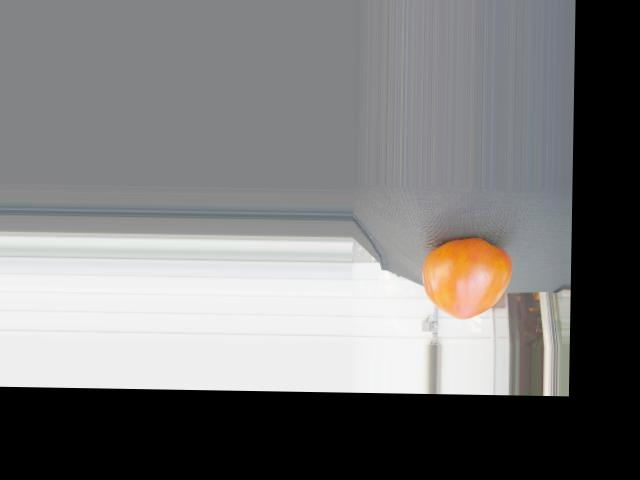tomato: (421, 237, 512, 320)
